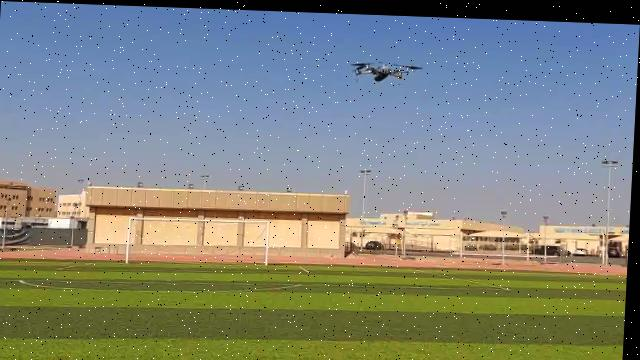drone: (345, 55, 426, 85)
